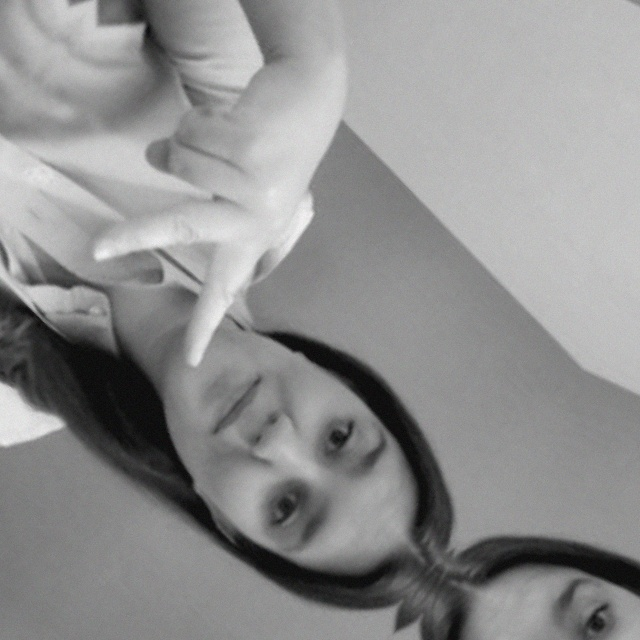Scissors: (0, 0, 54, 137)
